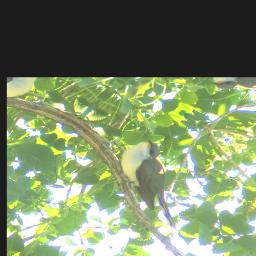Cuckoo: (90, 134, 230, 234)
